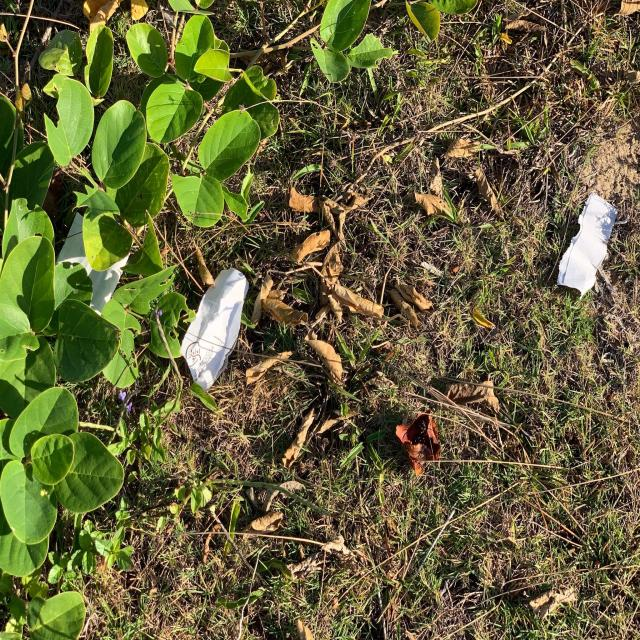litter: (180, 268, 249, 393), (55, 212, 129, 315), (557, 193, 619, 300)
